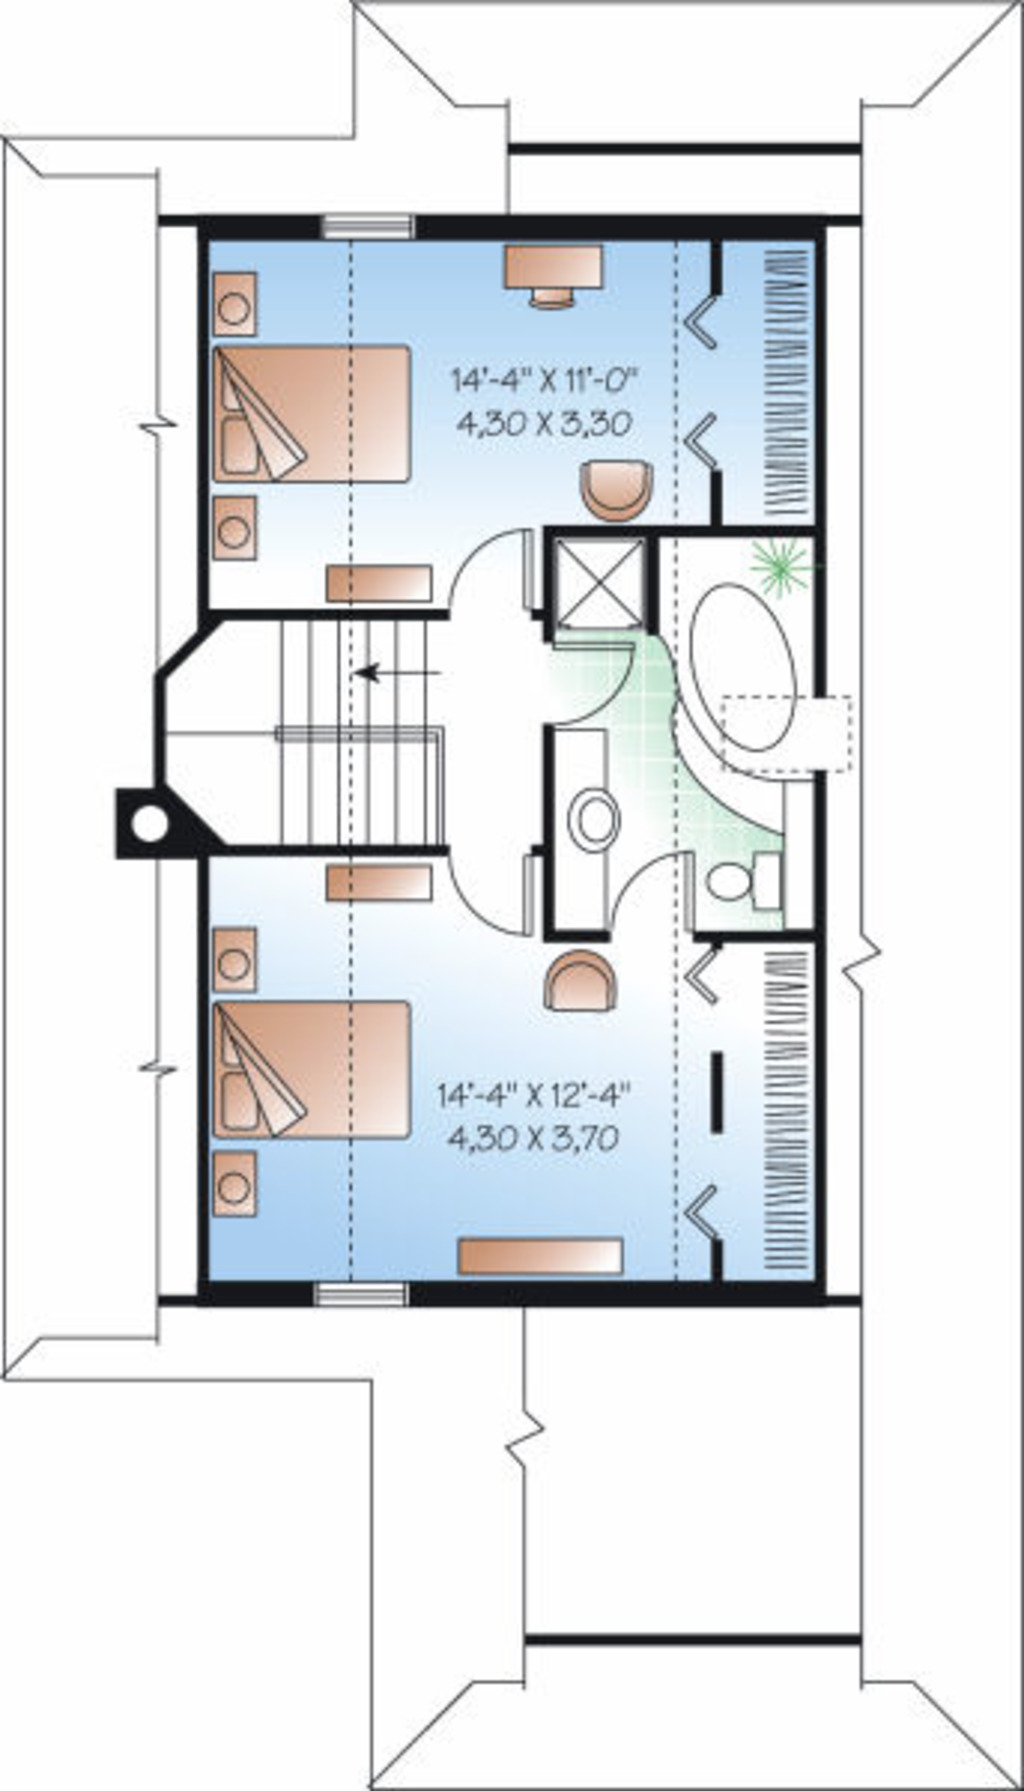bed: (201, 993, 422, 1150), (209, 337, 422, 493)
door: (443, 523, 543, 625), (545, 637, 642, 729), (450, 843, 538, 943), (615, 841, 699, 946)
large_sink: (705, 845, 786, 918)
small_sink: (555, 739, 618, 937)
stairs: (170, 610, 449, 854)
windows: (309, 1276, 409, 1324), (315, 205, 428, 246)
